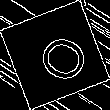O_NW: (23, 25, 87, 85)
